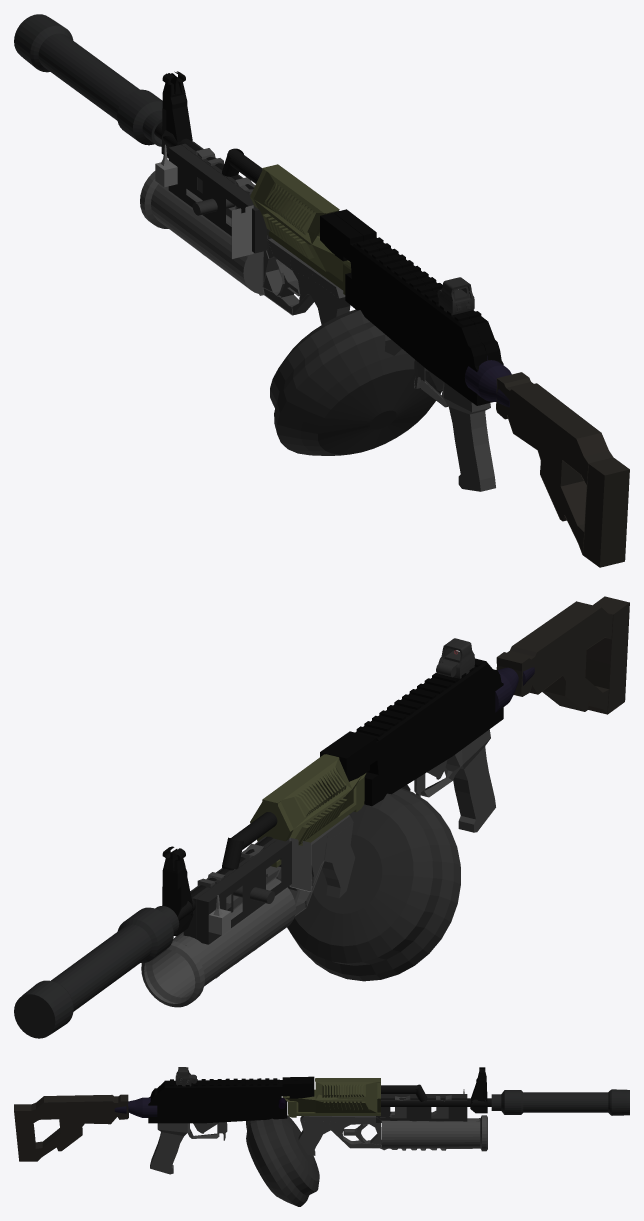
Rendered from myak74.fbx.
The picture shows the model from 3 angles, top to bottom: view 1: azimuth 30°, elevation 25°; view 2: azimuth 150°, elevation 25°; view 3: azimuth 270°, elevation 25°; orthographic projection. The views are drawn at different scales.
Parts seen in each view (by area): view 1: 11_AKDrumMag, 5_ReceiverCover, 4_Stock, 12_AKSupressor, 7_HandguardFront, 2_tube, 2_GL, 1_handguard, 2_AimSightsGL, 9_FrontSight, 1AimFront, 8_Berrel (+2 smaller); view 2: 11_AKDrumMag, 5_ReceiverCover, 4_Stock, 12_AKSupressor, 2_tube, 7_HandguardFront, 2_AimSightsGL, 1_handguard, 2_GL, 8_Berrel, 9_FrontSight, 1AimFront (+2 smaller); view 3: 5_ReceiverCover, 4_Stock, 11_AKDrumMag, 2_tube, 12_AKSupressor, 7_HandguardFront, 2_GL, 1_handguard, 2_AimSightsGL, 8_Berrel, 6_StockTube, 9_FrontSight (+1 smaller).
Boxes of the visible parts, bbox=[...] form: 11_AKDrumMag: bbox=[270, 309, 442, 455]; 5_ReceiverCover: bbox=[320, 209, 503, 405]; 4_Stock: bbox=[496, 372, 629, 567]; 12_AKSupressor: bbox=[14, 14, 162, 146]; 7_HandguardFront: bbox=[250, 164, 351, 294]; 2_tube: bbox=[140, 171, 281, 294]; 2_GL: bbox=[196, 148, 350, 324]; 1_handguard: bbox=[414, 359, 495, 491]; 2_AimSightsGL: bbox=[168, 141, 271, 253]; 9_FrontSight: bbox=[161, 71, 192, 158]; 1AimFront: bbox=[155, 144, 253, 258]; 8_Berrel: bbox=[154, 122, 262, 189]; 11_AKDrumMag: bbox=[287, 784, 460, 981]; 5_ReceiverCover: bbox=[320, 658, 503, 806]; 4_Stock: bbox=[496, 596, 629, 714]; 12_AKSupressor: bbox=[14, 906, 179, 1038]; 2_tube: bbox=[141, 878, 295, 1007]; 7_HandguardFront: bbox=[250, 754, 366, 867]; 2_AimSightsGL: bbox=[183, 836, 291, 944]; 1_handguard: bbox=[414, 729, 495, 832]; 2_GL: bbox=[175, 815, 355, 998]; 8_Berrel: bbox=[177, 812, 277, 920]; 9_FrontSight: bbox=[162, 846, 193, 936]; 1AimFront: bbox=[208, 838, 311, 934]; 5_ReceiverCover: bbox=[148, 1076, 314, 1123]; 4_Stock: bbox=[14, 1094, 128, 1161]; 11_AKDrumMag: bbox=[246, 1115, 319, 1206]; 2_tube: bbox=[381, 1115, 487, 1151]; 12_AKSupressor: bbox=[491, 1089, 629, 1115]; 7_HandguardFront: bbox=[282, 1078, 380, 1117]; 2_GL: bbox=[298, 1095, 480, 1155]; 1_handguard: bbox=[150, 1122, 227, 1174]; 2_AimSightsGL: bbox=[376, 1094, 467, 1122]; 8_Berrel: bbox=[381, 1084, 491, 1106]; 6_StockTube: bbox=[114, 1097, 157, 1117]; 9_FrontSight: bbox=[470, 1067, 487, 1113].
Size of the model in its own units: 99.94 by 140 by 585.
